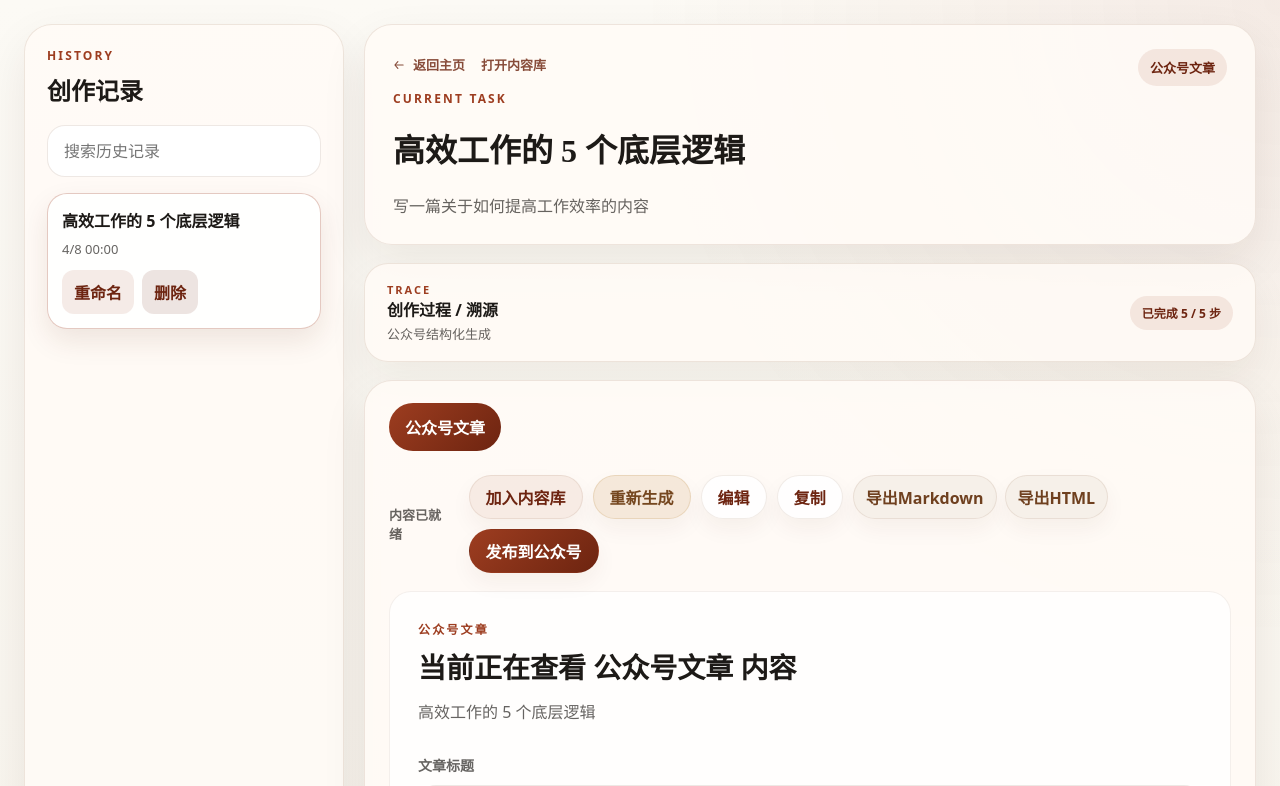
Scenario: WorkspaceShell › regenerates the current task content from the workspace
The width and height of the screenshot is (1280, 786).
Click the button "重新生成": coordinates (642, 497) [593,475,691,519]
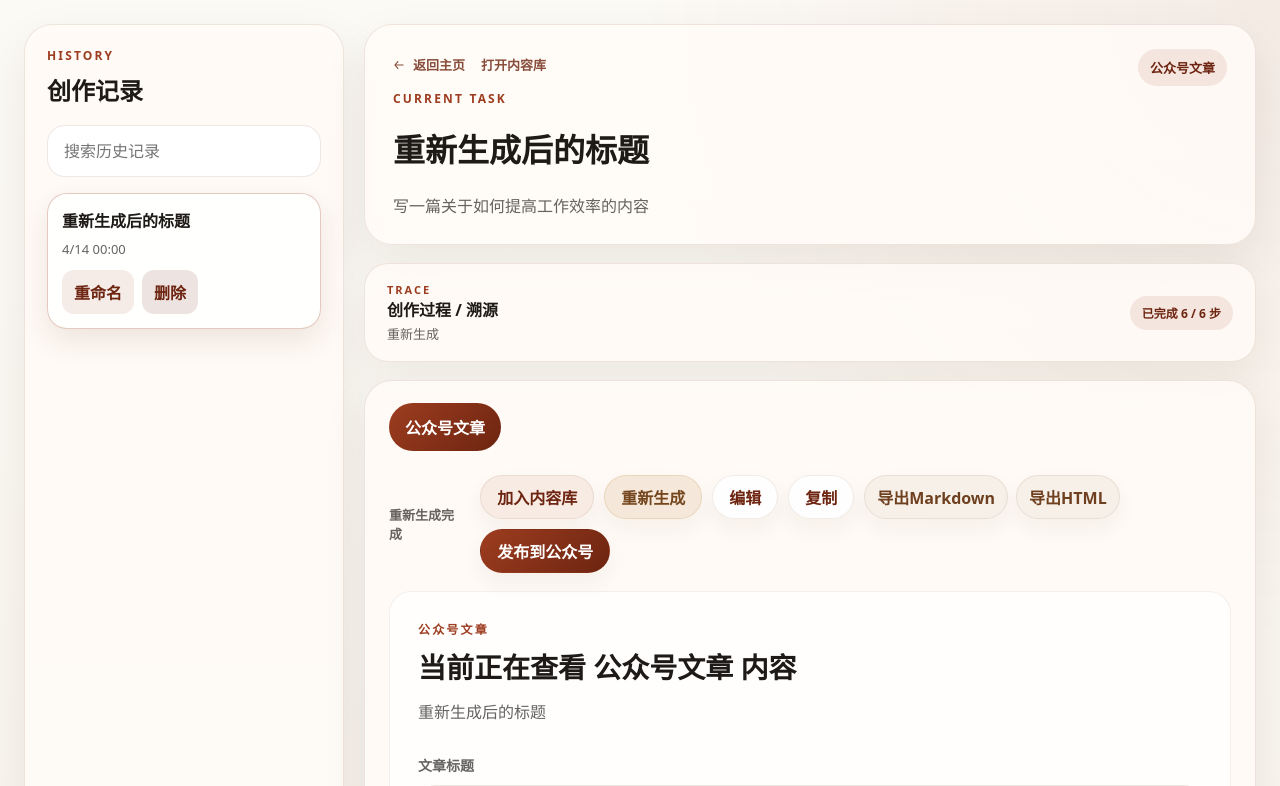
Expected: the text "重新生成完成" is shown, [389,505,464,543]
Expected: the heading "重新生成后的标题" is shown, [393,125,649,171]
Expected: the text "重新生成" is shown, [387,325,439,343]
